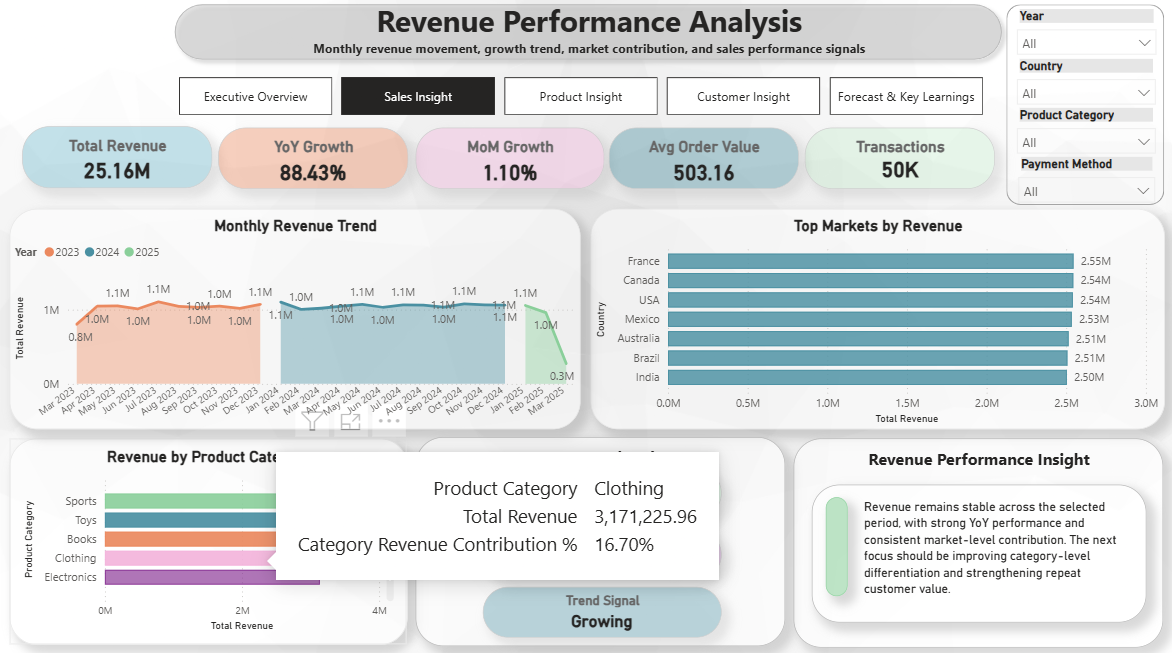

Layout of this report page (visuals, bound fields, positions):
{"tool":"powerbi","page":{"name":"Sales Insight","canvas":[1280,720],"ordinal":1},"visuals":[{"type":"shape","box":[183.8,0,913.2,77.9],"z":0},{"type":"textbox","box":[315.4,0,651.5,88.5],"z":1000},{"type":"pageNavigator","box":[197,88.6,874.3,41.4],"z":2000},{"type":"clusteredBarChart","title":"Revenue by Product Category","fields":{"Category":["Dim Product.Product Category"],"Y":["Measure Table.Total Revenue"]},"box":[13.3,478.3,431,223.3],"z":3000},{"type":"clusteredBarChart","title":"Top Markets by Revenue","fields":{"Category":["Dim Country.Country"],"Y":["Measure Table.Total Revenue"]},"box":[642.5,230,621.2,238.8],"z":4000},{"type":"lineChart","title":"Monthly Revenue Trend","fields":{"Category":["Dim Date.Month Year"],"Series":["Fact Sales.Year"],"Y":["Measure Table.Total Revenue"]},"box":[13.8,230,617.5,238.8],"z":5000},{"type":"card","title":"Total Revenue","fields":{"Values":["Measure Table.Total Revenue"]},"box":[27.1,141.4,205.7,67.1],"z":6000},{"type":"card","title":"YoY Growth","fields":{"Values":["Measure Table.Revenue YoY Growth %"]},"box":[240,142.5,205.8,66.7],"z":7000},{"type":"card","title":"MoM Growth","fields":{"Values":["Measure Table.Revenue MoM Growth %"]},"box":[452.5,141.7,204.2,66.7],"z":8000},{"type":"card","title":"Avg Order Value","fields":{"Values":["Measure Table.Average Order Value"]},"box":[662.5,141.7,205.8,66.7],"z":9000},{"type":"card","title":"Transactions","fields":{"Values":["Measure Table.Total Transactions"]},"box":[874.2,141.7,205.8,66.7],"z":10000},{"type":"shape","box":[1093.1,9.2,170.8,217],"z":11000},{"type":"slicer","fields":{"Values":["Dim Country.Country"]},"box":[1094.2,65,170,56.7],"z":12000},{"type":"slicer","fields":{"Values":["Dim Date.Year"]},"box":[1093.3,9.2,170.8,61.7],"z":13000},{"type":"slicer","fields":{"Values":["Dim Product.Product Category"]},"box":[1094.2,118,170,55.8],"z":14000},{"type":"slicer","fields":{"Values":["Dim Payment Method.Payment Method"]},"box":[1096.2,171.5,167.7,56.9],"z":15000},{"type":"shape","title":"Revenue Signals","box":[453.3,476.7,400,226.7],"z":16000},{"type":"shape","title":"Revenue Performance Insight","box":[862.7,479.1,400,226.4],"z":17000},{"type":"card","title":"Peak Month","fields":{"Values":["Measure Table.Peak Revenue Month"]},"box":[525,511,258.3,55],"z":18000},{"type":"card","title":"Avg Monthly Revenue","fields":{"Values":["Measure Table.Average Monthly Revenue"]},"box":[525,576.7,258.3,55],"z":19000},{"type":"card","title":"Trend Signal","fields":{"Values":["Measure Table.Revenue Trend Signal"]},"box":[525,640,258.3,55],"z":20000},{"type":"shape","title":"Market Leadership Insight","box":[881.8,528.2,361.8,149.1],"z":21000},{"type":"textbox","box":[933.3,538.3,291.7,138.3],"z":22000},{"type":"shape","title":"Market Leadership Insight","box":[896.7,541.7,23.3,107],"z":23000}]}

Visuals, with their boxes in screenshot pixels (x1, y1, x2, y2), scaled from the page's 1280x720 canvas onto the 1172x653 screenshot:
shape: l=168, t=0, r=1004, b=71
textbox: l=289, t=0, r=885, b=80
pageNavigator: l=180, t=80, r=981, b=118
"Revenue by Product Category" clusteredBarChart: l=12, t=434, r=407, b=636
"Top Markets by Revenue" clusteredBarChart: l=588, t=209, r=1157, b=425
"Monthly Revenue Trend" lineChart: l=13, t=209, r=578, b=425
"Total Revenue" card: l=25, t=128, r=213, b=189
"YoY Growth" card: l=220, t=129, r=408, b=190
"MoM Growth" card: l=414, t=129, r=601, b=189
"Avg Order Value" card: l=607, t=129, r=795, b=189
"Transactions" card: l=800, t=129, r=989, b=189
shape: l=1001, t=8, r=1157, b=205
slicer - Dim Country.Country: l=1002, t=59, r=1158, b=110
slicer - Dim Date.Year: l=1001, t=8, r=1157, b=64
slicer - Dim Product.Product Category: l=1002, t=107, r=1158, b=158
slicer - Dim Payment Method.Payment Method: l=1004, t=156, r=1157, b=207
"Revenue Signals" shape: l=415, t=432, r=781, b=638
"Revenue Performance Insight" shape: l=790, t=435, r=1156, b=640
"Peak Month" card: l=481, t=463, r=717, b=513
"Avg Monthly Revenue" card: l=481, t=523, r=717, b=573
"Trend Signal" card: l=481, t=580, r=717, b=630
"Market Leadership Insight" shape: l=807, t=479, r=1139, b=614
textbox: l=855, t=488, r=1122, b=614
"Market Leadership Insight" shape: l=821, t=491, r=842, b=588
